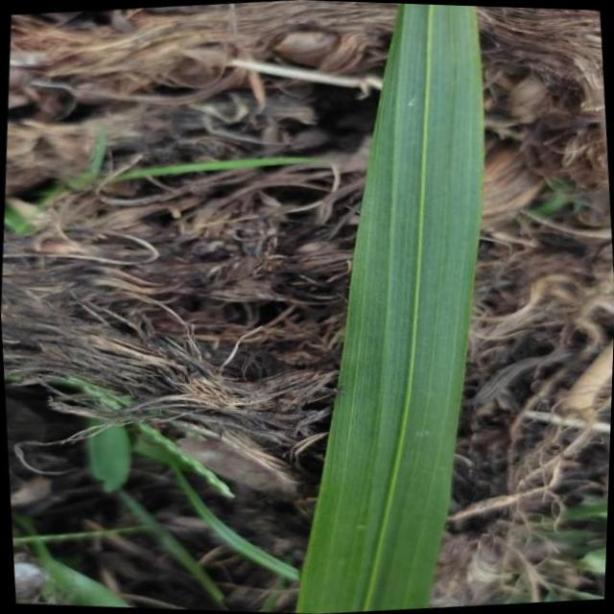Healthy: (296, 0, 486, 614)
